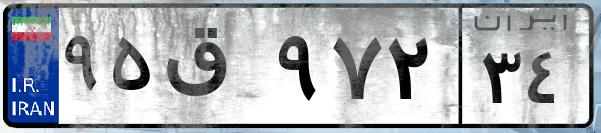2: (385, 28, 445, 110)
3: (475, 38, 525, 113)
4: (525, 38, 570, 115)
5: (110, 28, 158, 98)
7: (330, 28, 385, 110)
9: (270, 28, 330, 110), (57, 26, 110, 100)
ق: (158, 20, 270, 120)
